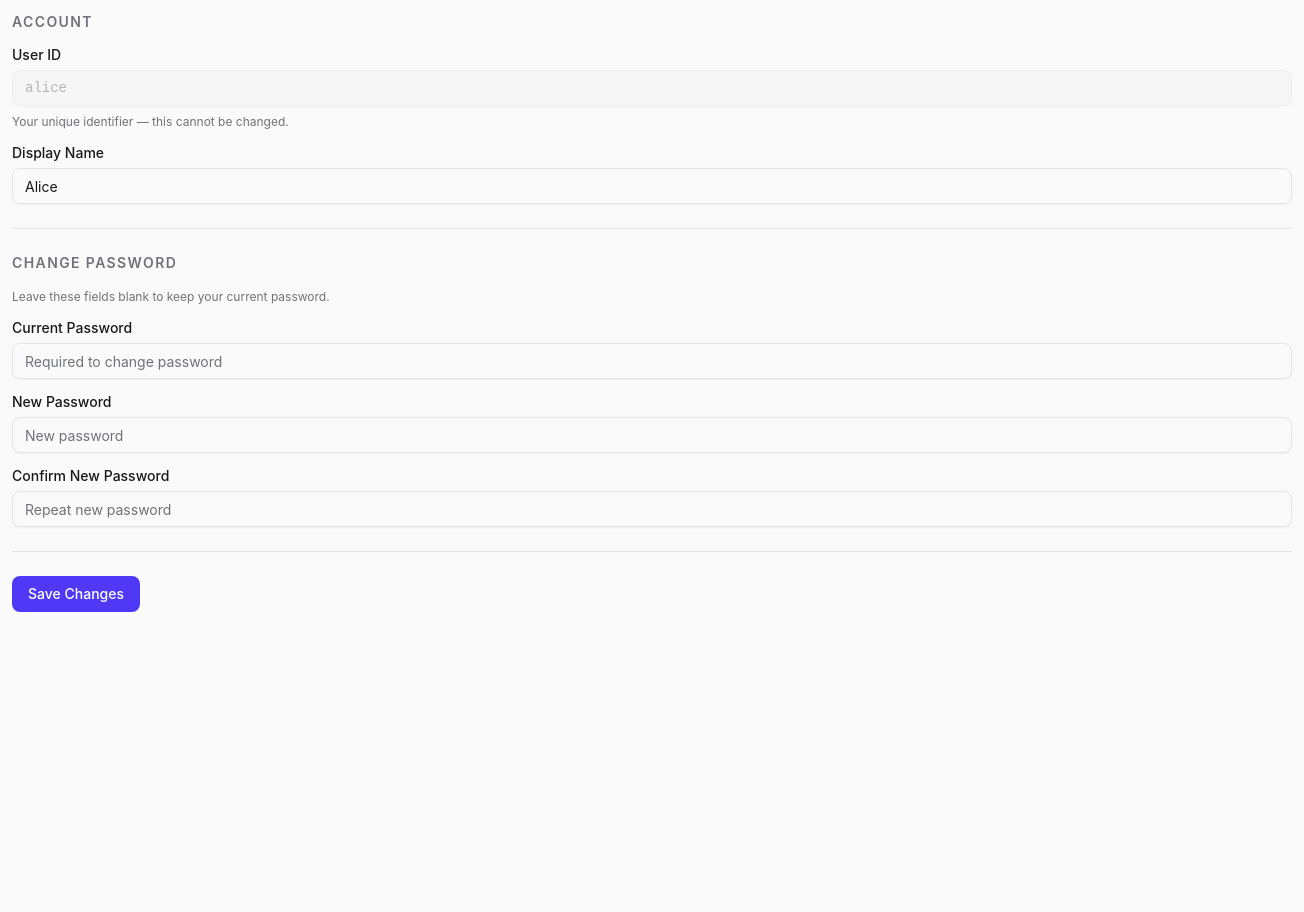
Scenario: ProfileForm › rejects incorrect current password
Check: the field labelled "Display Name" holds "Alice", box [12,168,1292,204]
Type "wrong" into the password field labelled "Current Password". click: (652, 361)
box: [12,343,1292,379]
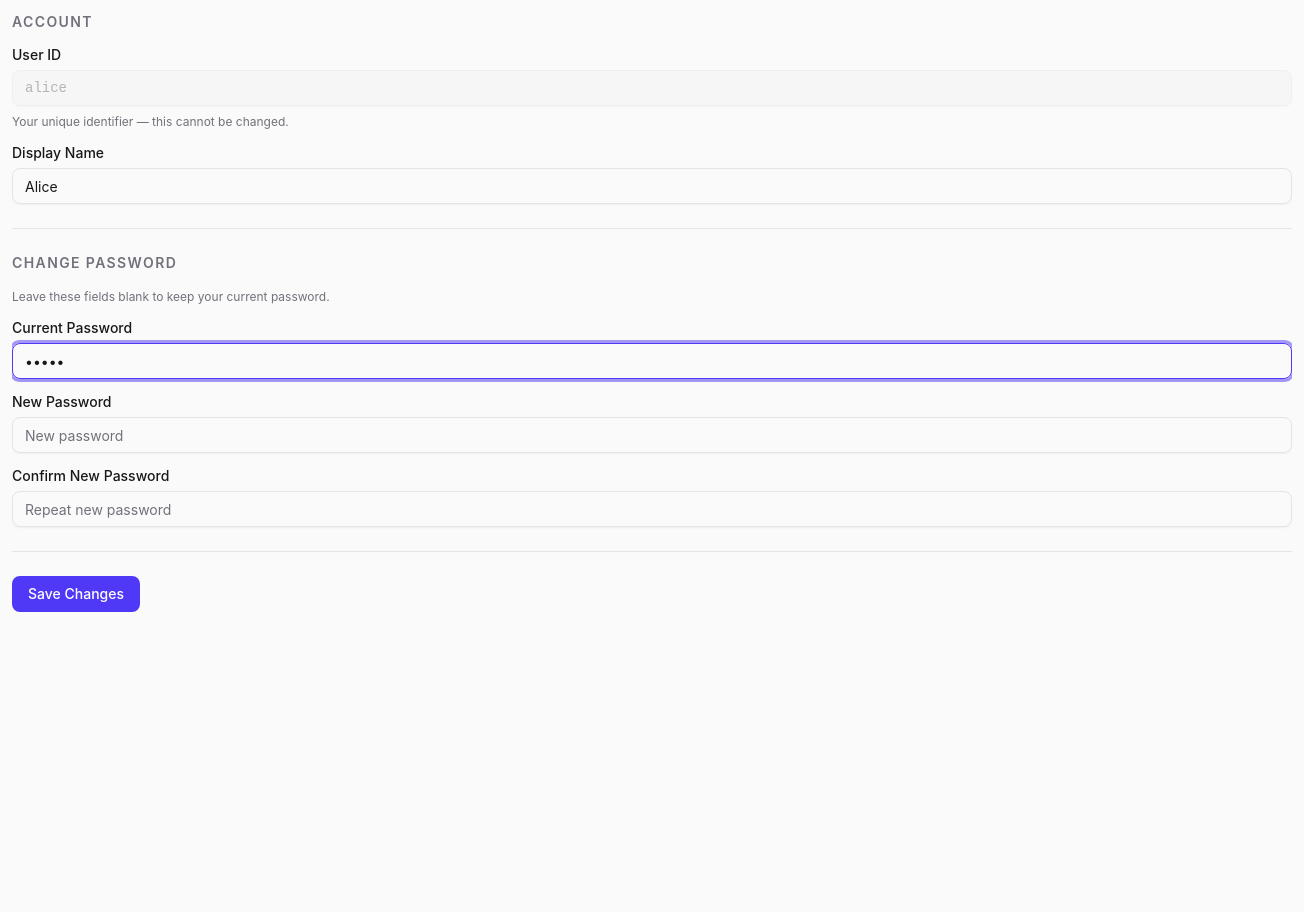
Type "newpass" into the password field labelled "New Password". click: (652, 435)
box: [12,417,1292,453]
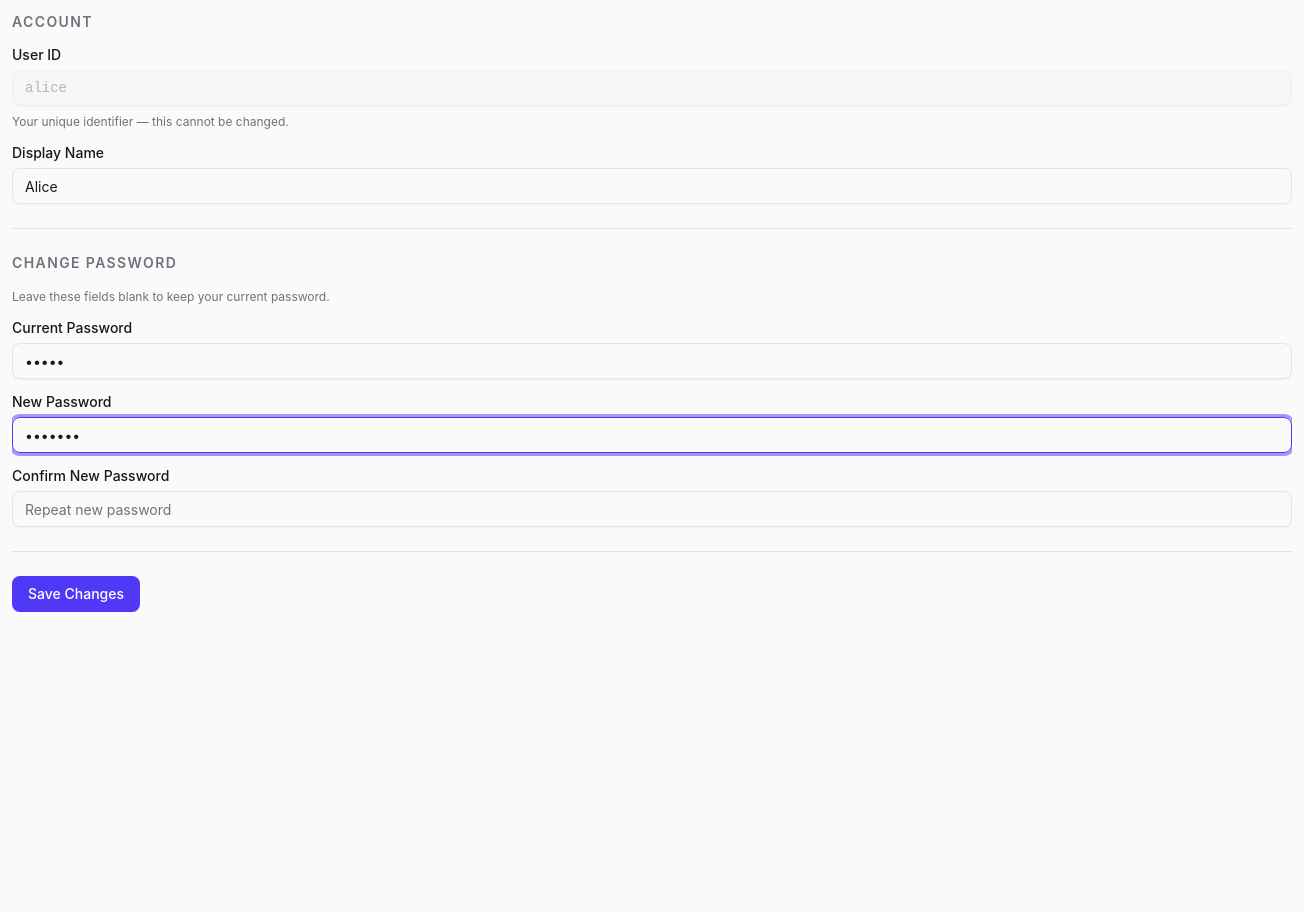
Type "newpass" into the password field labelled "Confirm New Password". click: (652, 509)
box: [12,491,1292,527]
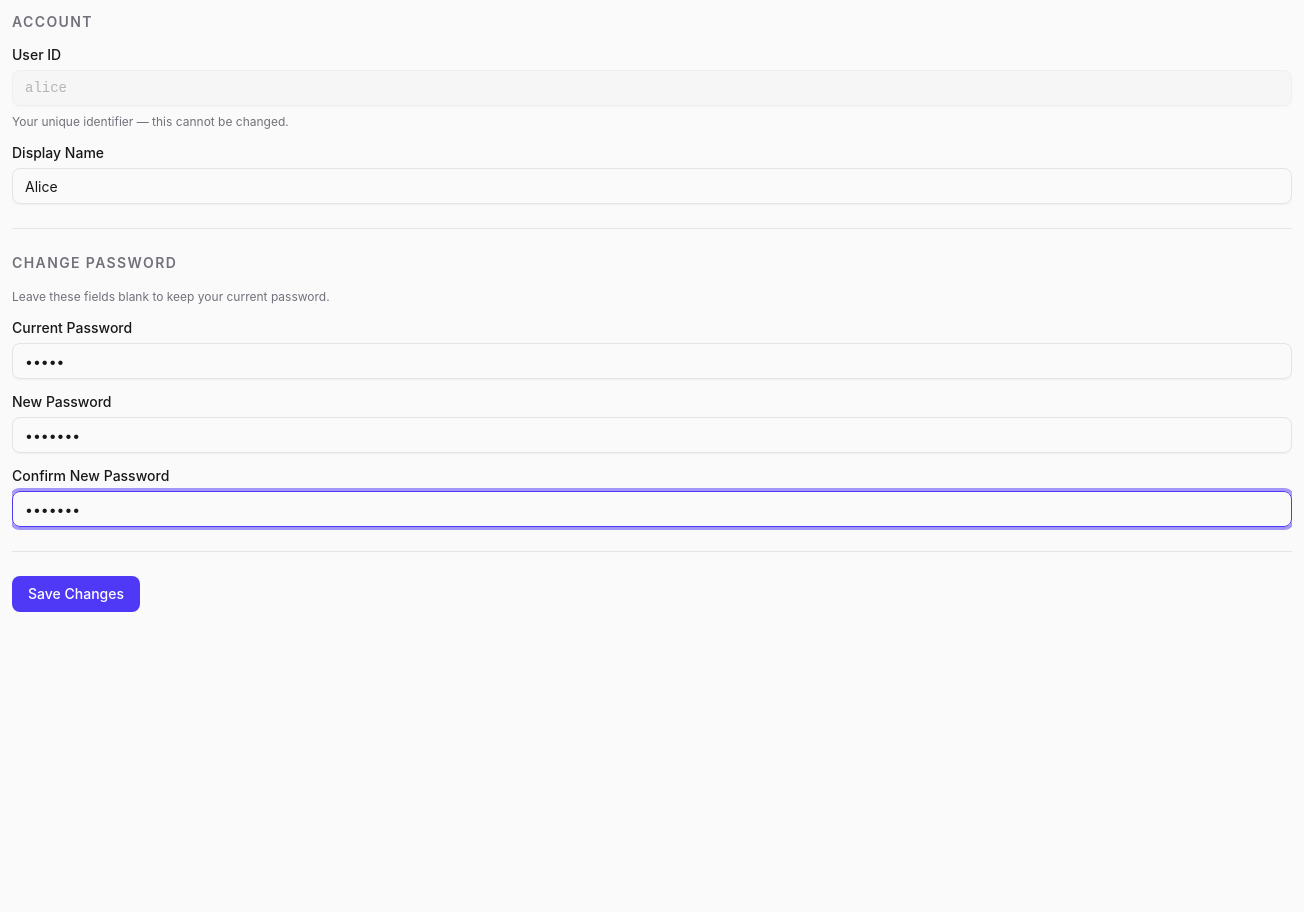
Click the button "Save Changes". click: click(76, 594)
box: [12,576,140,612]
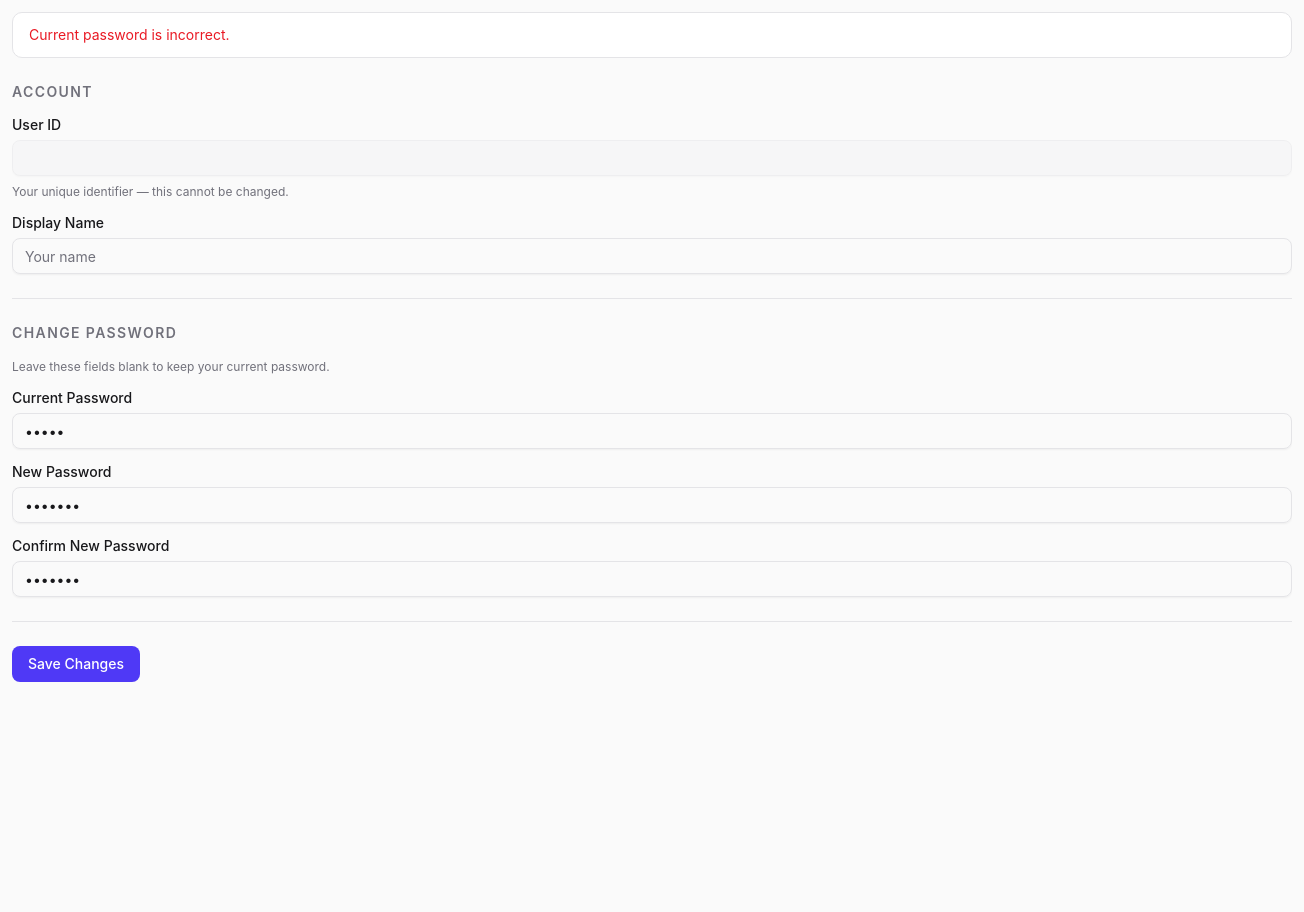
Check: the text "Current password is incorrect." is shown, box [29,26,230,43]
